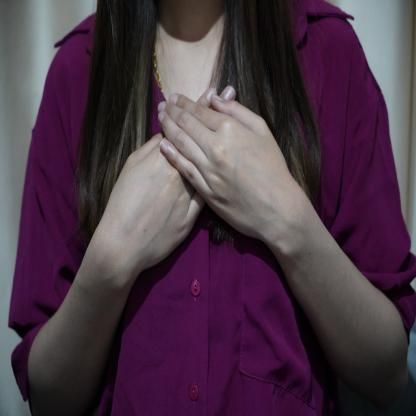Grieve: (84, 76, 294, 288)
